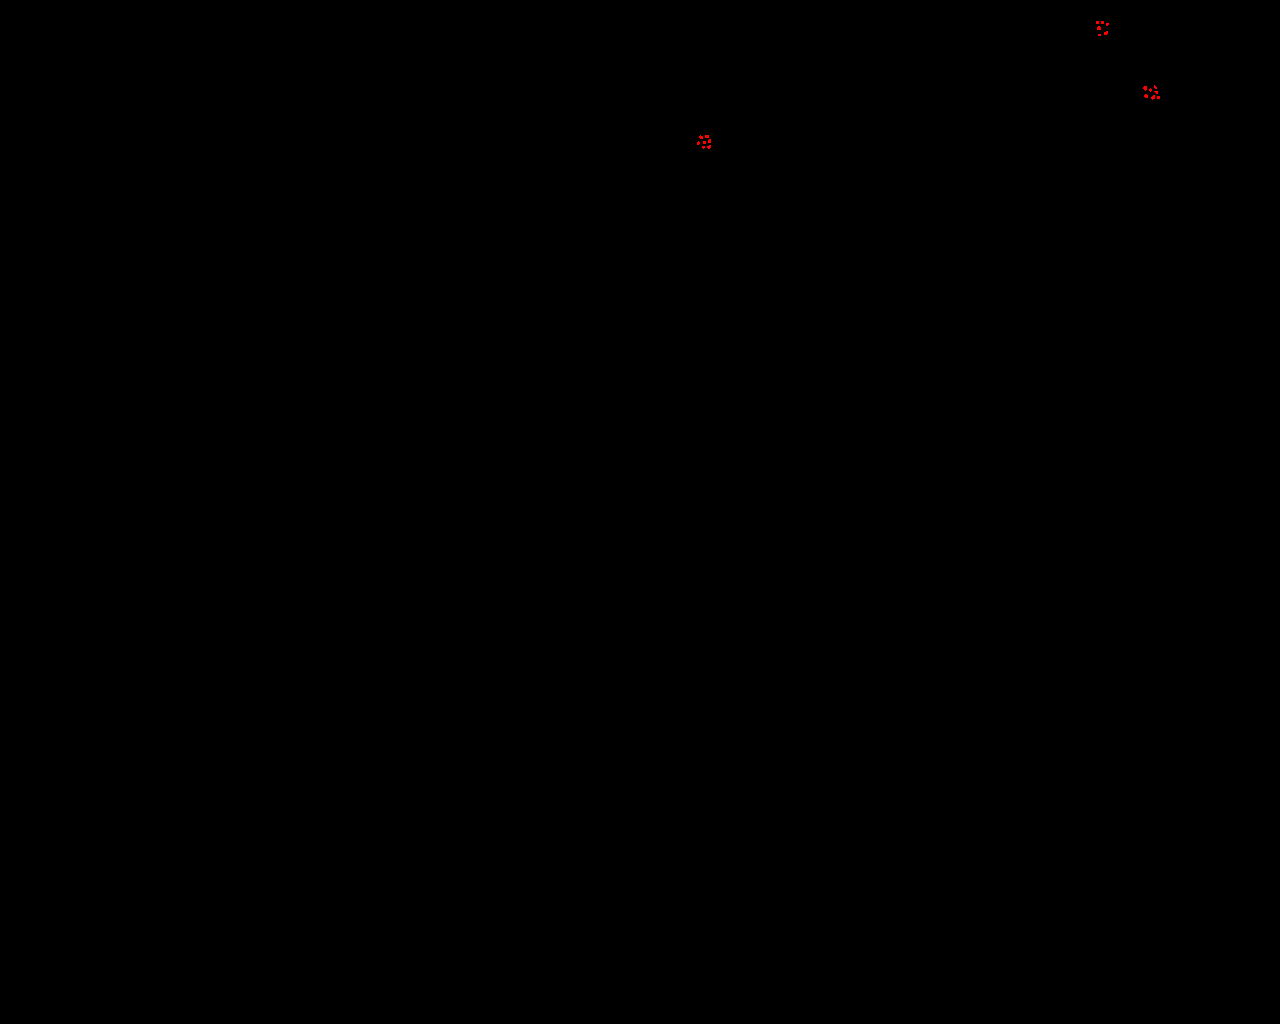Target: (1143, 86, 1147, 91), (1097, 26, 1101, 30), (1144, 94, 1148, 98), (699, 135, 703, 139), (1151, 95, 1155, 100), (1154, 85, 1157, 89), (1154, 91, 1158, 94), (705, 135, 709, 138), (697, 141, 700, 145), (707, 145, 711, 149), (1096, 21, 1099, 24), (1101, 21, 1104, 24), (1106, 23, 1109, 26), (1104, 31, 1108, 34), (1157, 96, 1160, 99), (703, 141, 706, 144), (702, 146, 705, 149), (1149, 88, 1151, 92), (708, 139, 711, 143), (1098, 34, 1101, 36)
